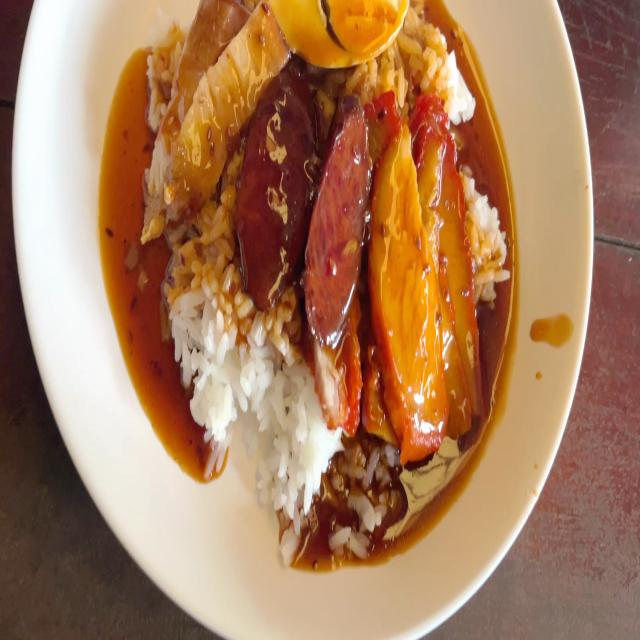boiled_egg: (260, 0, 406, 65)
chainese_sausage: (234, 82, 361, 307), (240, 100, 324, 282), (306, 122, 373, 325)
crispy_pork: (144, 0, 258, 219), (158, 30, 280, 184)
red_pork: (373, 106, 481, 433), (370, 113, 439, 442), (427, 122, 479, 430), (312, 335, 362, 420)
red_pork_and_crispy_pork: (141, 0, 508, 541)
rice: (170, 246, 254, 438), (224, 356, 317, 506)
